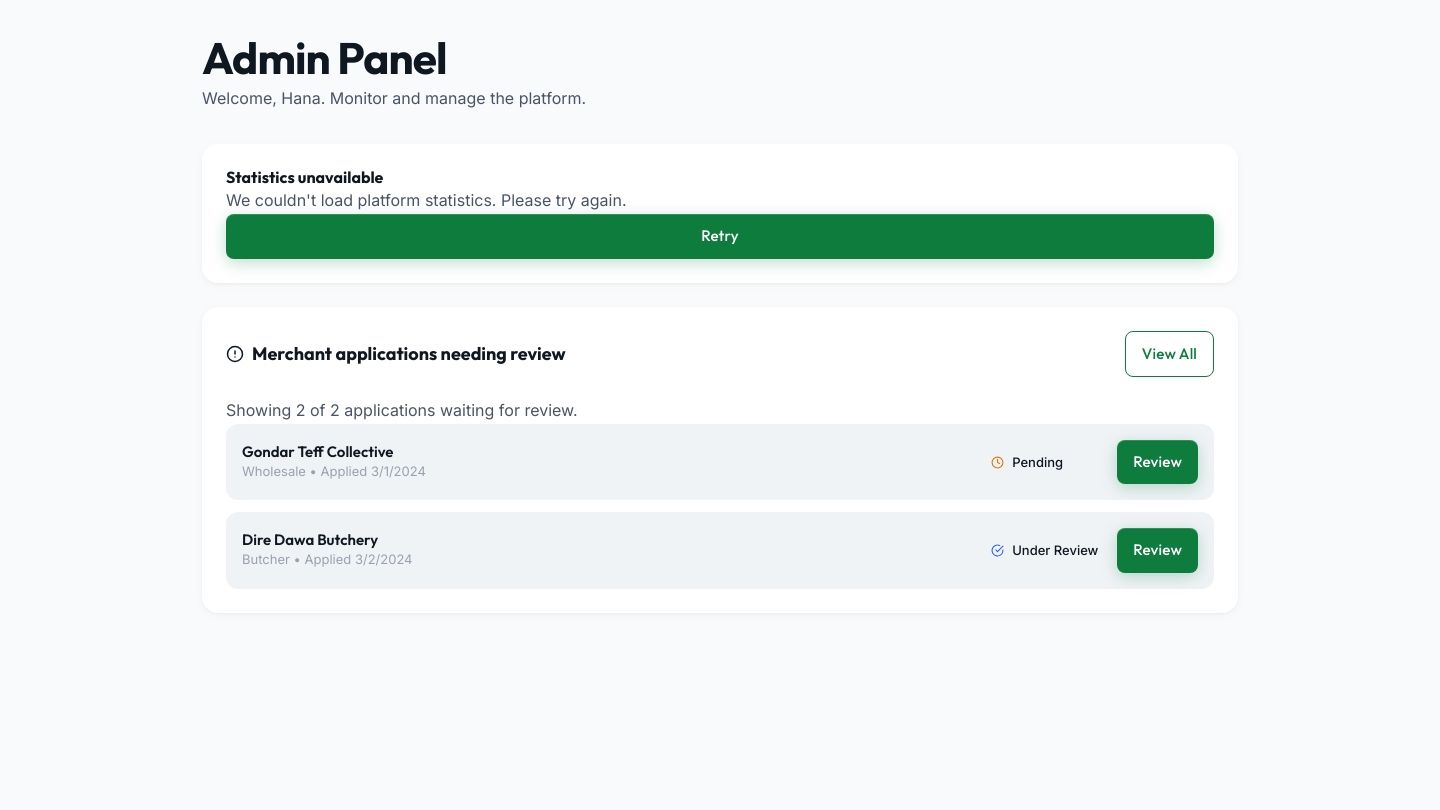
AdminDashboard — real data only › handles stats failure with retry without breaking the queue
Check: the element with test id "admin-stats-error" is shown, box [202,144,1238,283]
Check: the element with test id "admin-queue" is shown, box [226,424,1214,589]
Step 1. Click the button with test id "retry-admin-stats" → (720, 237), box [226,214,1214,259]
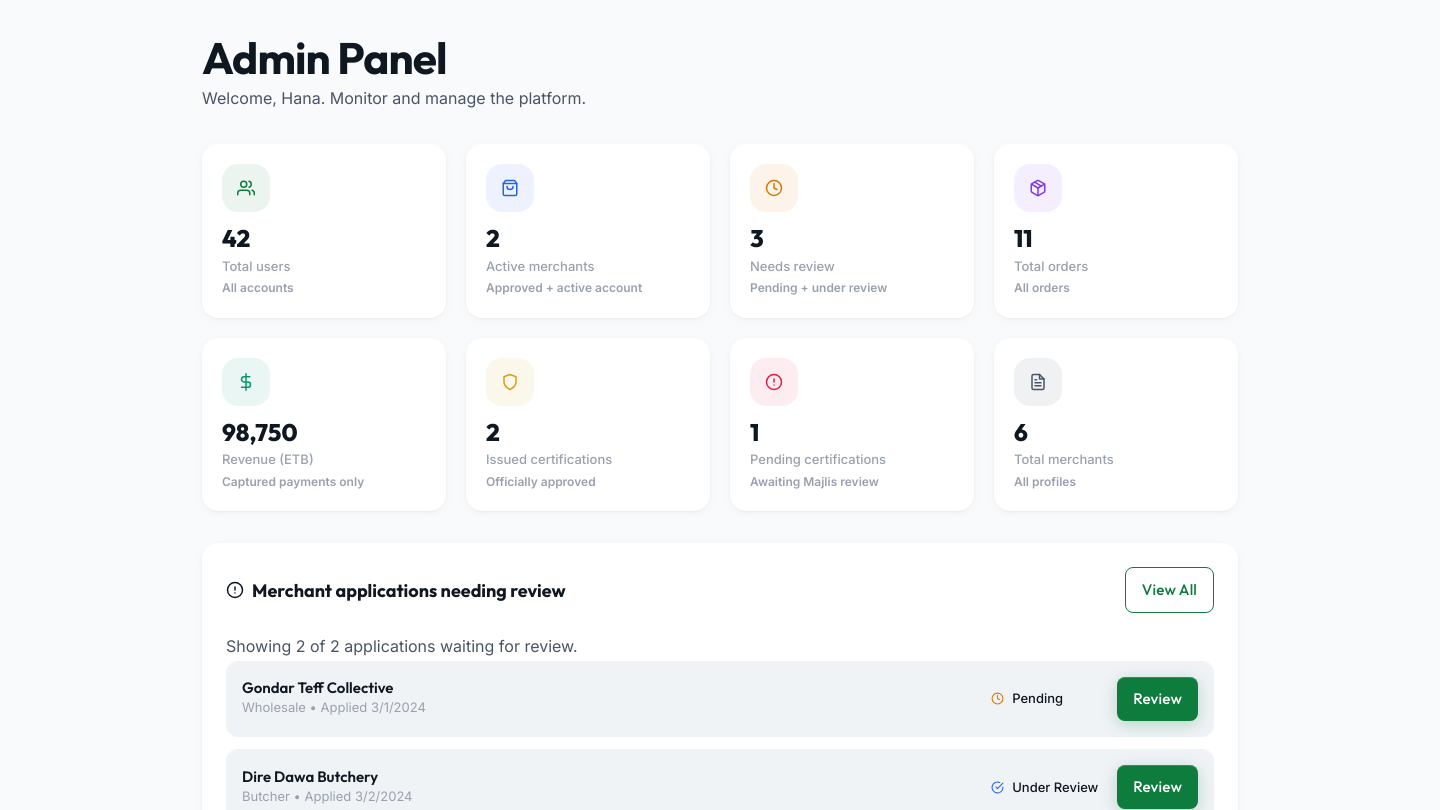
Check: the element with test id "admin-stats" is shown, box [202,144,1238,511]
